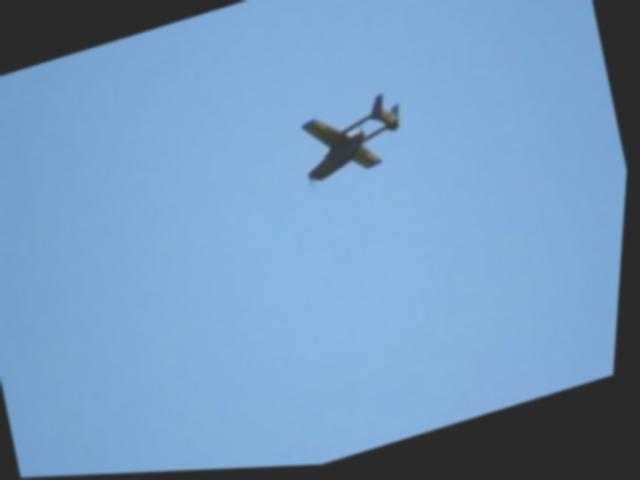uav: (285, 85, 422, 199)
